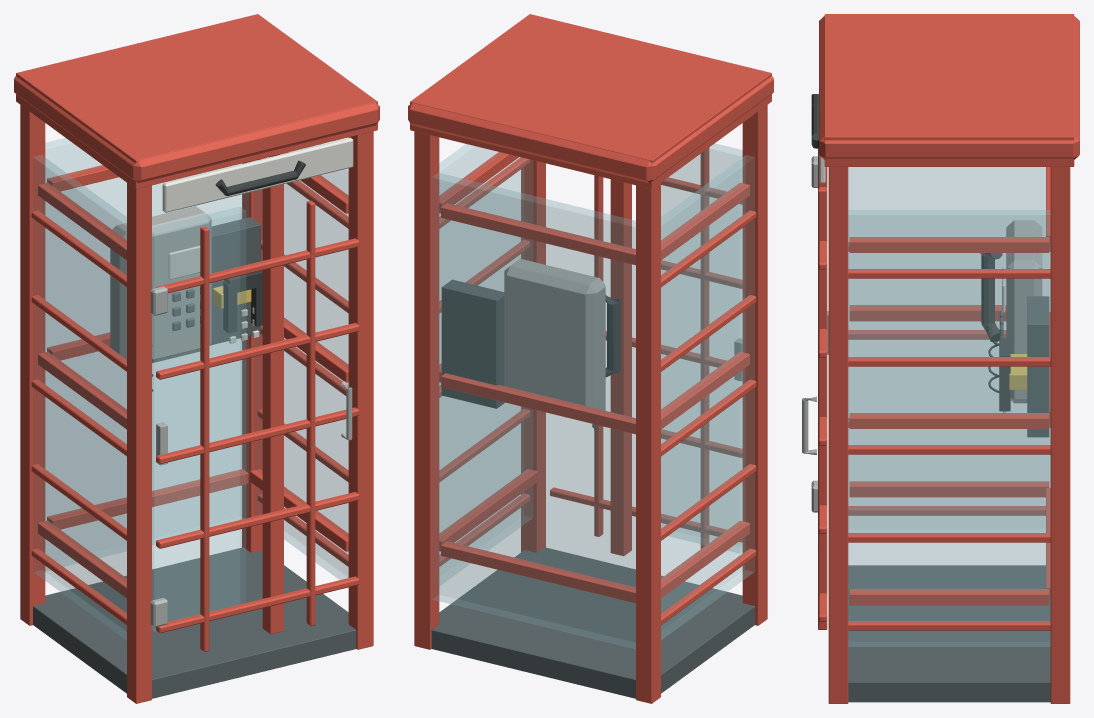
Rendered from Telephone_Booth.fbx.
The picture shows the model from 3 angles, left to right: view 1: azimuth 30°, elevation 25°; view 2: azimuth 150°, elevation 25°; view 3: azimuth 270°, elevation 25°; orthographic projection. The views are drawn at different scales.
Visible parts, largest first — view 1: Telephone_Booth__LPCXFER; view 2: Telephone_Booth__LPCXFER; view 3: Telephone_Booth__LPCXFER.
Boxes of the visible parts, x1=… form: Telephone_Booth__LPCXFER: x1=14, y1=14, x2=379, y2=703; Telephone_Booth__LPCXFER: x1=408, y1=14, x2=773, y2=703; Telephone_Booth__LPCXFER: x1=802, y1=14, x2=1079, y2=703.
Bounding box in the file's own units: 107 × 226 × 100.
